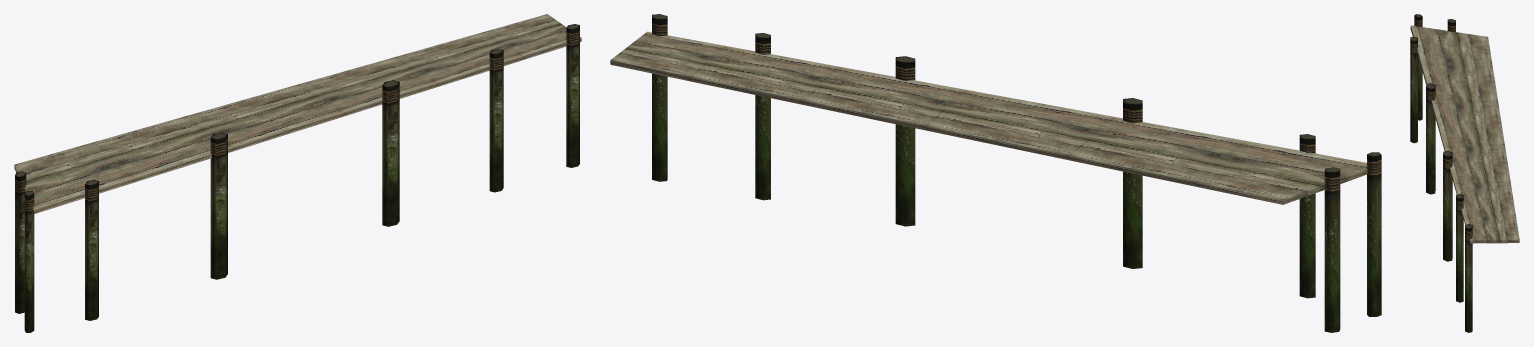
File: pier_midisland.fbx
3 views of the same model, side by side, from view 1: azimuth 30°, elevation 25°; view 2: azimuth 150°, elevation 25°; view 3: azimuth 270°, elevation 25° (orthographic). The views are drawn at different scales.
Visible parts, largest first — view 1: pier5andBarrels:pier_top, pier5andBarrels:poll4, pier5andBarrels:poll3, pier5andBarrels:poll2, pier5andBarrels:poll1, pier5andBarrels:poll5, pier5andBarrels:poll6, pier5andBarrels:poll7; view 2: pier5andBarrels:pier_top, pier5andBarrels:poll7, pier5andBarrels:poll3, pier5andBarrels:poll6, pier5andBarrels:poll4, pier5andBarrels:poll1, pier5andBarrels:poll5, pier5andBarrels:poll2; view 3: pier5andBarrels:pier_top, pier5andBarrels:poll3, pier5andBarrels:poll4, pier5andBarrels:poll1, pier5andBarrels:poll2, pier5andBarrels:poll5, pier5andBarrels:poll6, pier5andBarrels:poll7.
Boxes of the visible parts, x1,y1,x2,y2 form: pier5andBarrels:pier_top: (14,14,581,213); pier5andBarrels:poll4: (210,132,227,279); pier5andBarrels:poll3: (382,80,399,226); pier5andBarrels:poll2: (489,48,503,192); pier5andBarrels:poll1: (566,24,579,167); pier5andBarrels:poll5: (85,179,98,320); pier5andBarrels:poll6: (24,191,34,332); pier5andBarrels:poll7: (15,171,26,313); pier5andBarrels:pier_top: (610,31,1367,204); pier5andBarrels:poll7: (1324,167,1340,332); pier5andBarrels:poll3: (895,56,915,226); pier5andBarrels:poll6: (1367,152,1381,316); pier5andBarrels:poll4: (1123,98,1142,268); pier5andBarrels:poll1: (652,14,667,181); pier5andBarrels:poll5: (1299,134,1315,298); pier5andBarrels:poll2: (755,33,770,200); pier5andBarrels:pier_top: (1410,25,1519,243); pier5andBarrels:poll3: (1443,150,1452,261); pier5andBarrels:poll4: (1426,83,1435,194); pier5andBarrels:poll1: (1465,224,1472,332); pier5andBarrels:poll2: (1456,194,1463,302); pier5andBarrels:poll5: (1410,36,1417,143); pier5andBarrels:poll6: (1414,14,1422,120); pier5andBarrels:poll7: (1447,19,1455,32).
Bounding box in the file's own units: 31523 × 7137 × 6727.
Materials: 2 (2 with a texture image).
